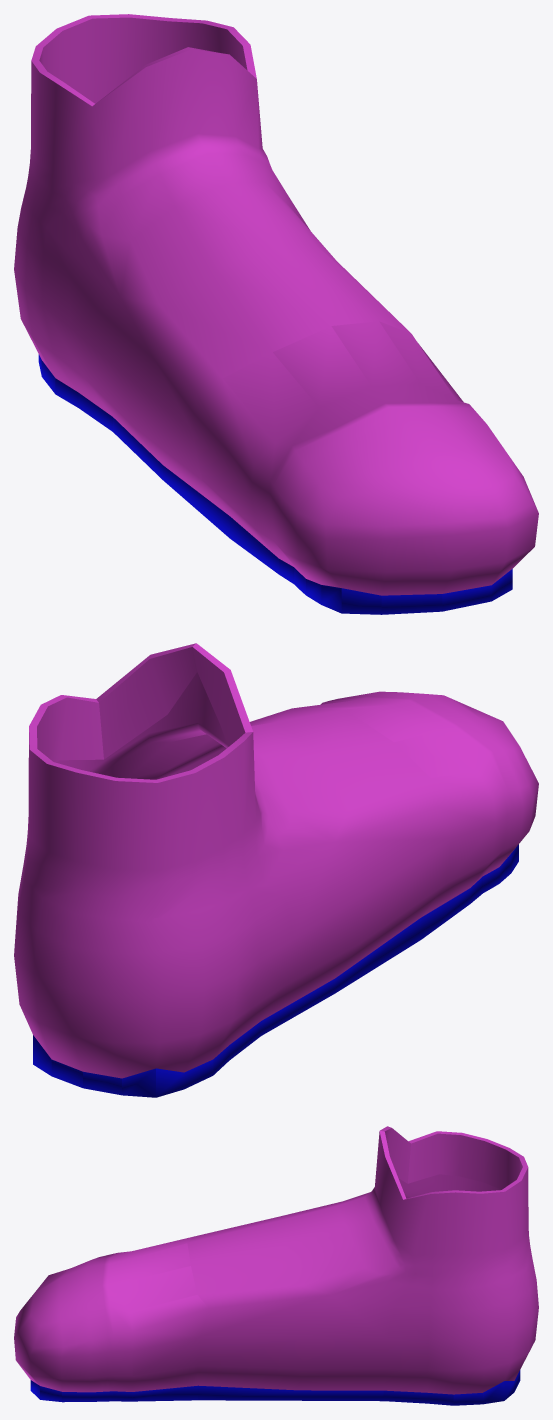
The model's file is sapatoj2.fbx.
3 renders of one model, top to bottom at view 1: azimuth 30°, elevation 25°; view 2: azimuth 150°, elevation 25°; view 3: azimuth 270°, elevation 25°, orthographic. The views are drawn at different scales.
Visible parts, largest first — view 1: polySurface9; view 2: polySurface9; view 3: polySurface9.
Boxes of the visible parts, bbox=[...] form: polySurface9: bbox=[14, 14, 538, 614]; polySurface9: bbox=[14, 643, 538, 1097]; polySurface9: bbox=[14, 1126, 538, 1405].
Size of the model in its own units: 2.07 by 3.11 by 5.99.
